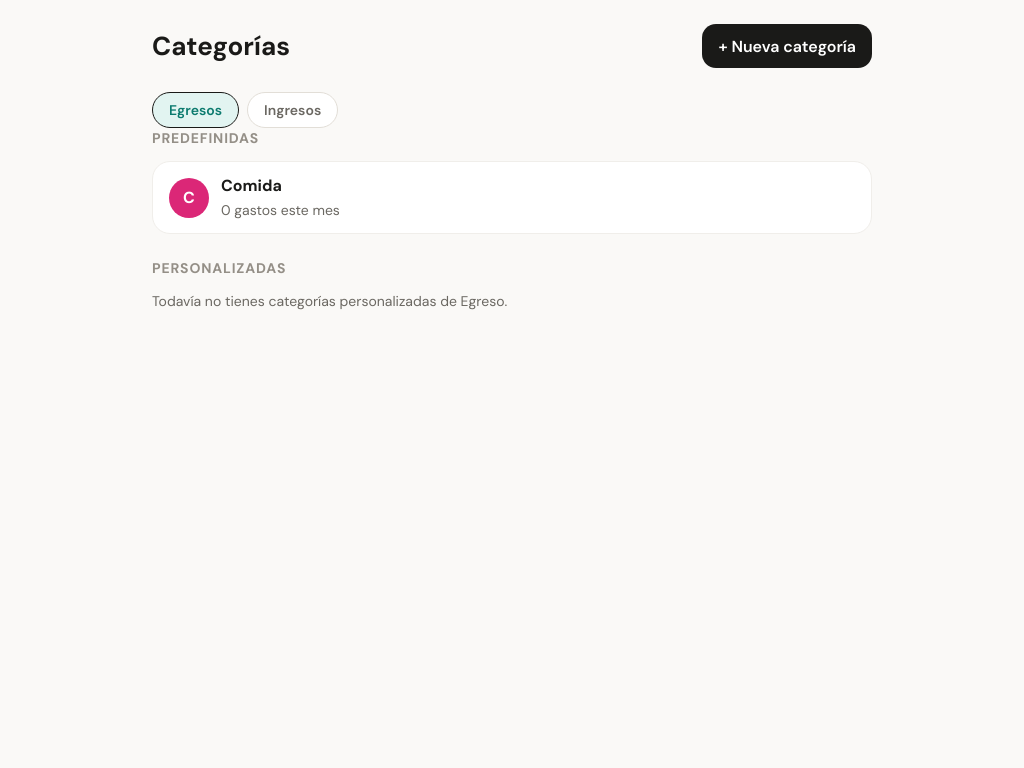
Test: CategoriasView › HU-4.4 — abrir detalle al tocar una fila › camino feliz: tocar una fila abre el modal de detalle con esa categoría
Click the list item with class "fila-categoria". click: point(512, 198)
box: 152,161 -> 872,234
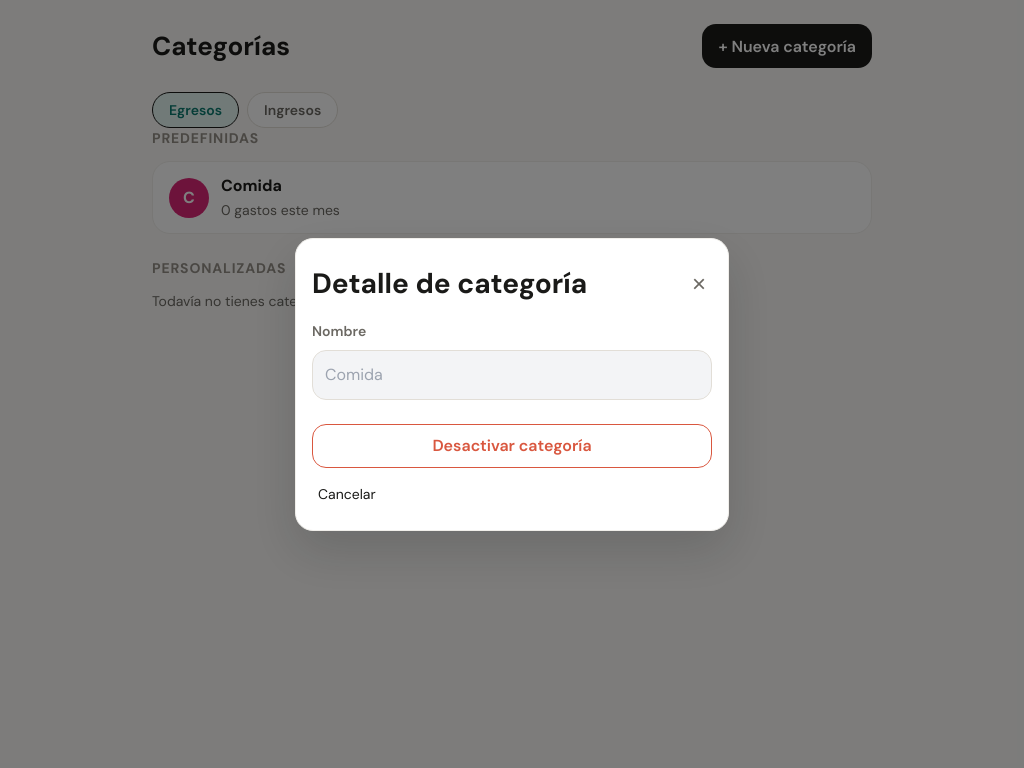
Check: the element showing "Detalle de categoría × Nombre Desactivar categoría Cancelar" is shown
